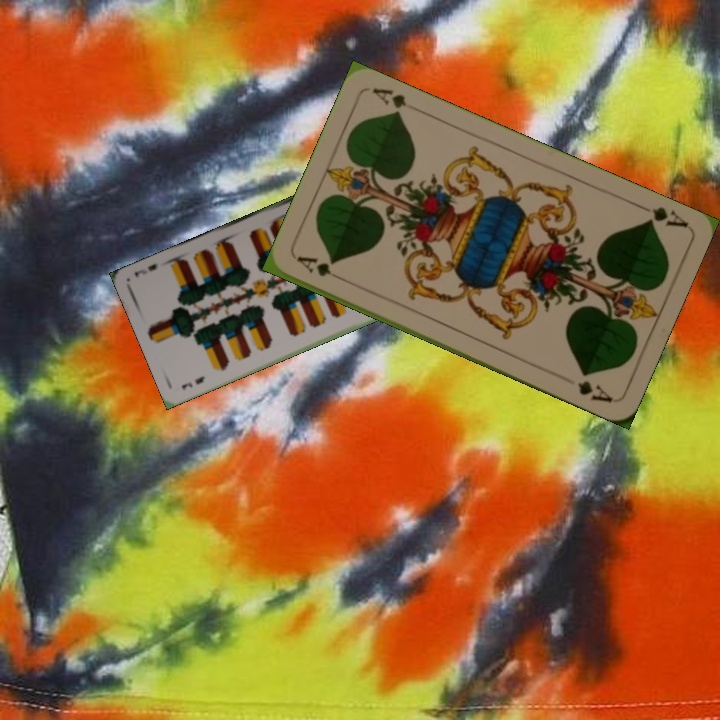E7: (178, 372, 208, 392)
GA: (293, 252, 349, 284), (633, 200, 690, 231)
